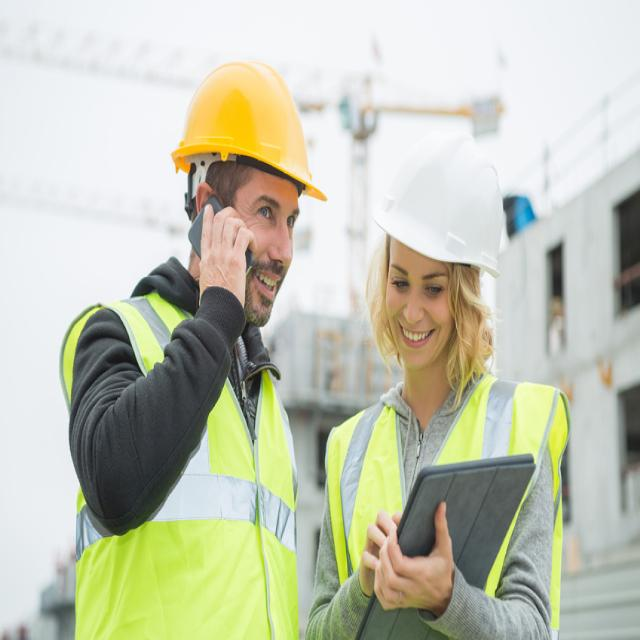helmet: (167, 54, 328, 208), (372, 130, 503, 282)
vest: (55, 293, 305, 640), (321, 376, 571, 640)
